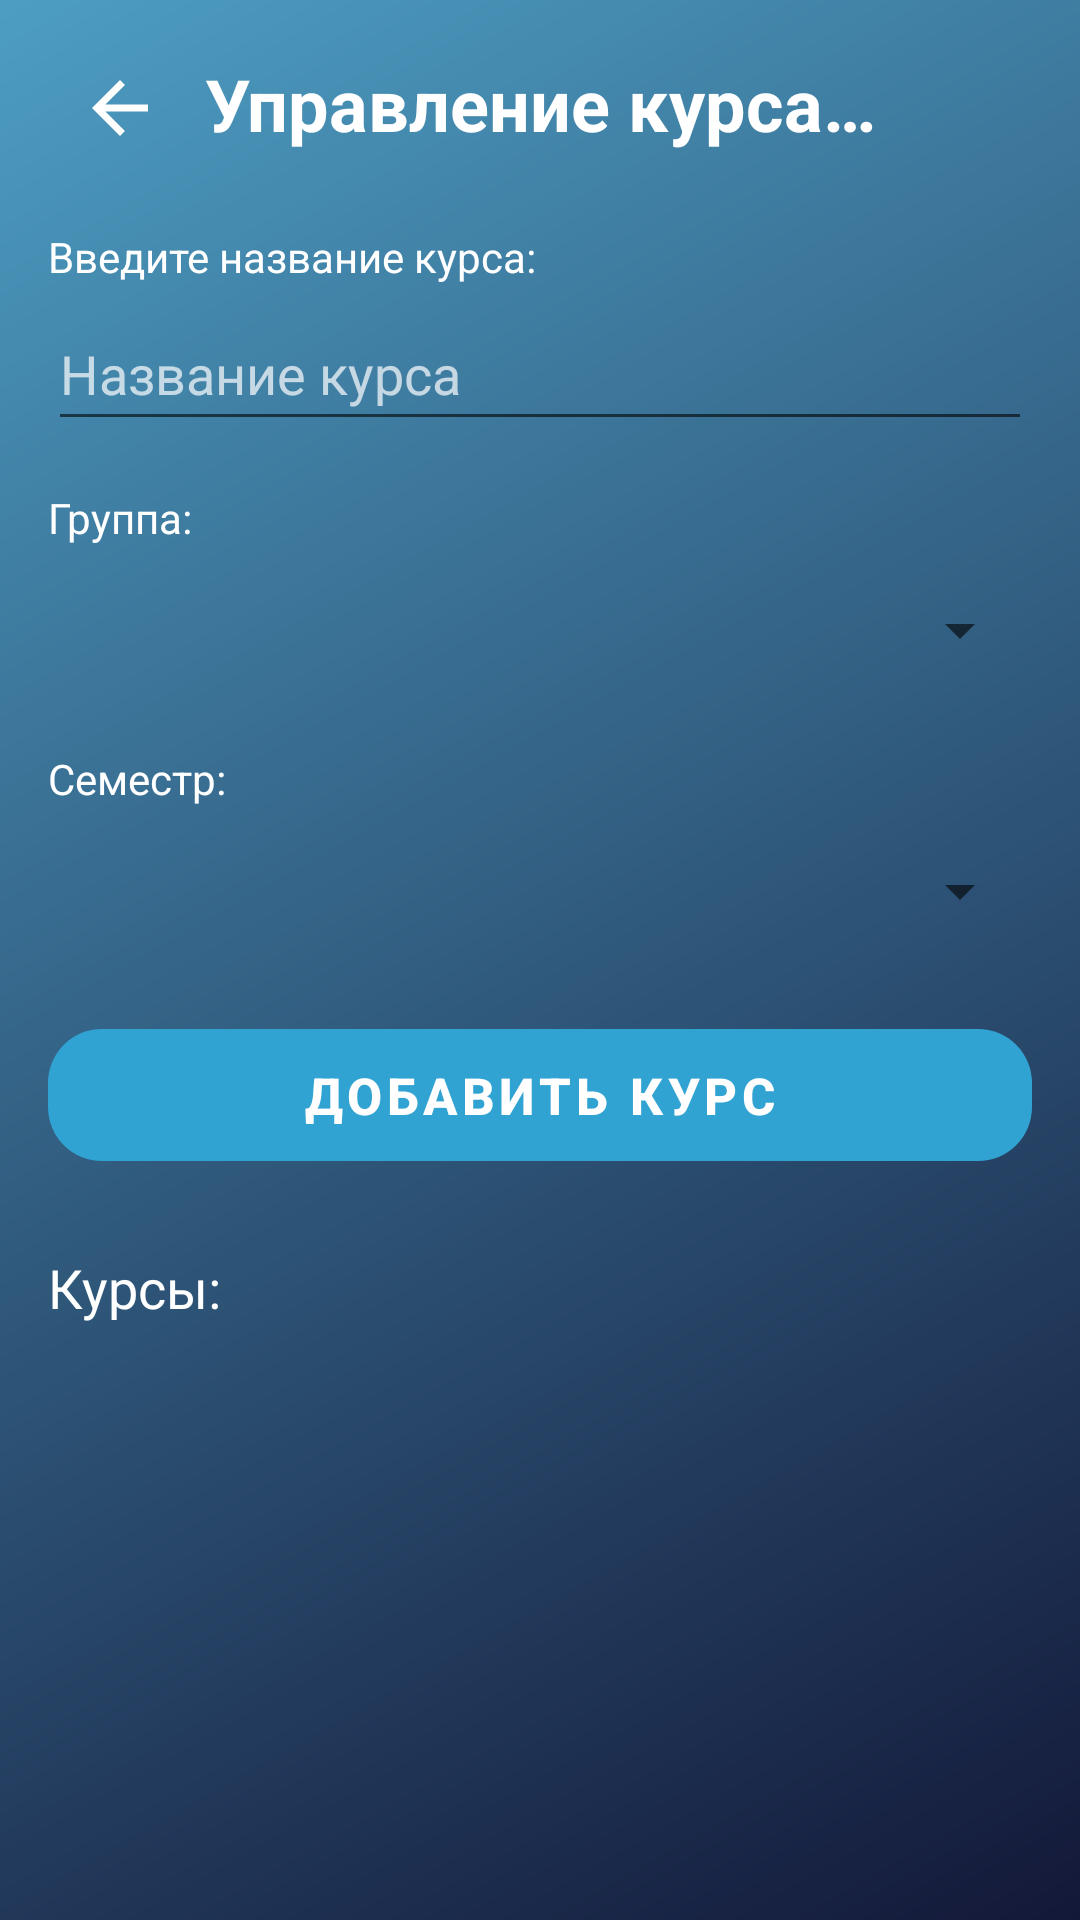

Named icons in this screenshot (1080*1920) and their centers, point (x, y):
Назад: point (120, 108)
